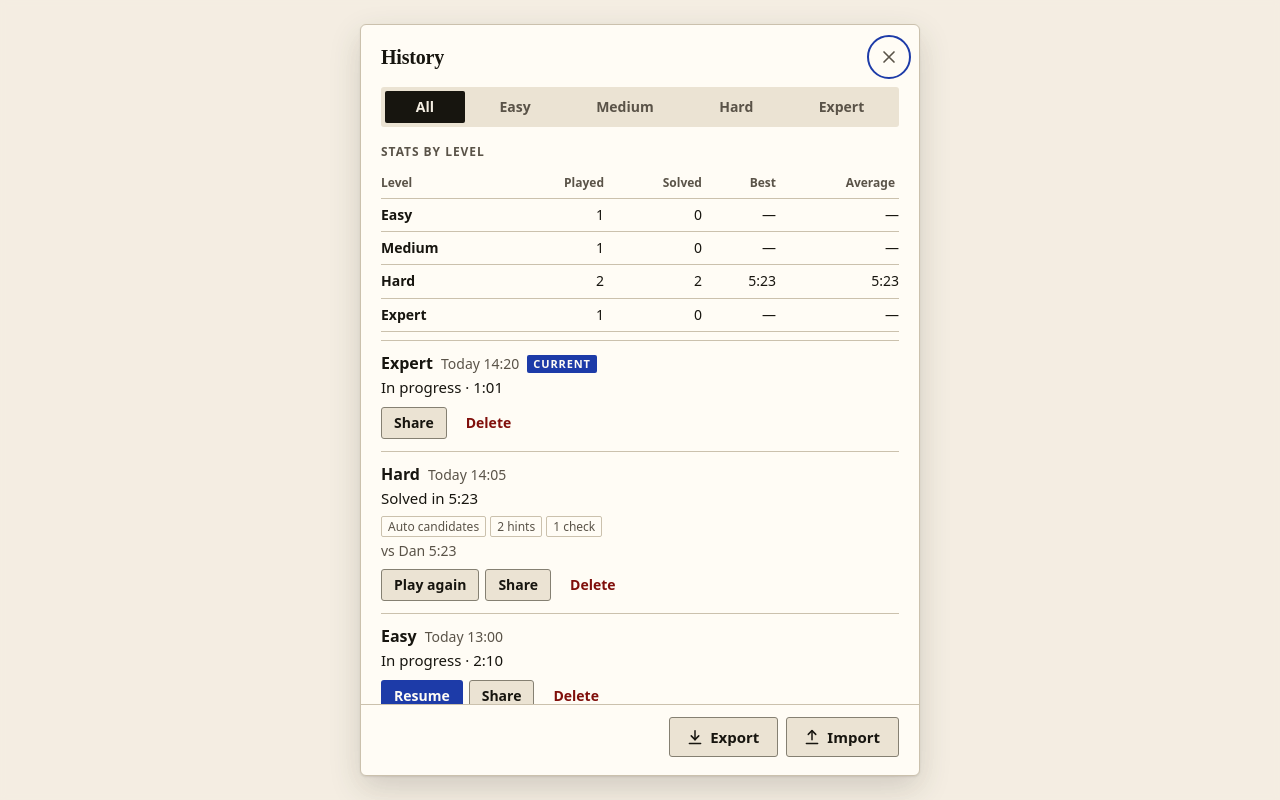
Test: HistoryDialog › filtering › narrows the list and the stats to one tier
Click the tab "Hard" at (736, 107), box left=688, top=91, right=784, bottom=123
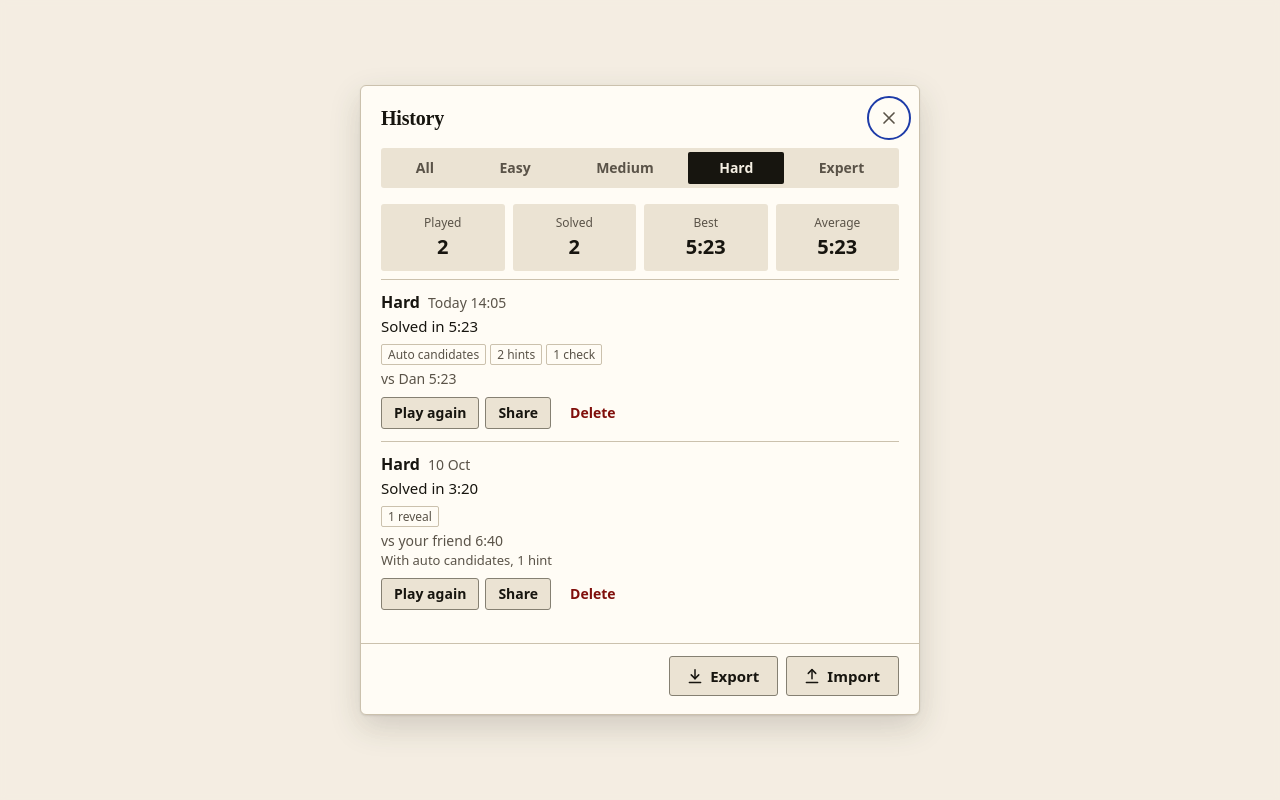
Expected: the 2nd text "2" is shown, left=568, top=233, right=580, bottom=260
Expected: the table is gone
